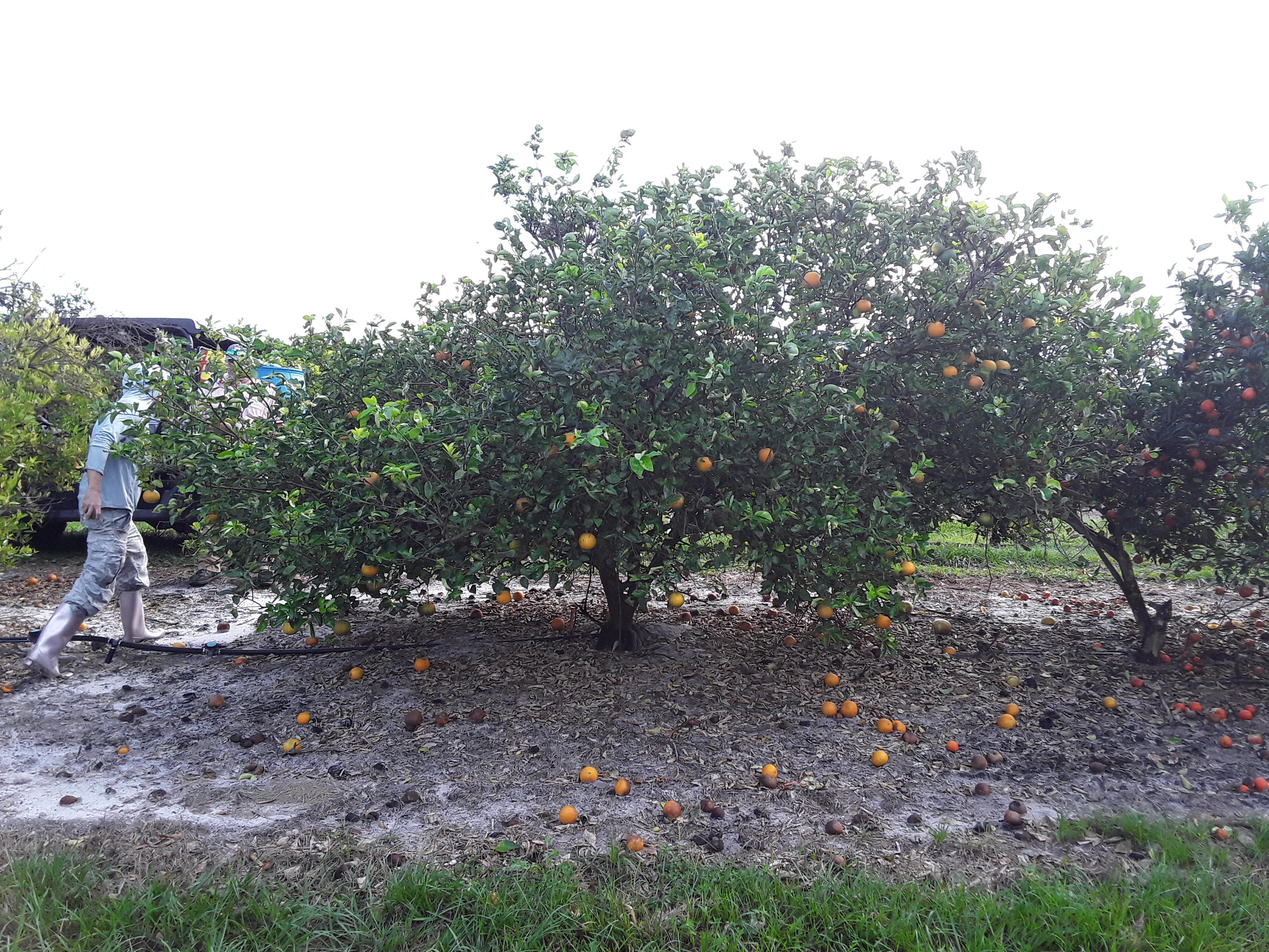fruit_on_ground: (576, 533, 600, 551), (924, 320, 946, 339), (801, 272, 824, 290), (361, 471, 385, 488), (977, 508, 995, 530), (140, 487, 163, 504), (694, 455, 714, 474), (625, 360, 646, 378), (562, 429, 581, 448), (757, 446, 776, 465), (909, 468, 929, 486), (665, 495, 689, 510), (939, 248, 959, 266), (970, 296, 988, 315), (512, 497, 534, 512), (203, 509, 225, 524), (718, 322, 736, 340), (281, 620, 300, 637), (333, 429, 354, 444), (476, 346, 498, 360), (896, 598, 913, 616), (725, 257, 743, 274), (1198, 399, 1218, 414), (332, 620, 352, 635), (956, 351, 976, 366), (898, 562, 919, 576), (816, 605, 837, 619), (542, 444, 559, 461), (1182, 339, 1200, 355), (882, 417, 901, 432), (874, 615, 893, 630), (1254, 285, 1269, 304), (1239, 335, 1258, 350), (1243, 361, 1262, 376), (581, 457, 601, 471), (1241, 387, 1260, 401), (362, 563, 381, 577), (940, 365, 960, 378), (856, 299, 873, 314), (878, 548, 896, 562), (494, 591, 513, 604), (979, 359, 998, 372), (435, 348, 452, 362), (1209, 424, 1225, 438), (1103, 509, 1120, 522), (995, 359, 1012, 372), (1254, 466, 1269, 480), (1192, 459, 1208, 472), (1201, 309, 1217, 322), (1134, 465, 1151, 477), (930, 242, 947, 254), (1020, 318, 1037, 330), (1164, 513, 1178, 527), (1185, 360, 1200, 373), (968, 375, 983, 388), (1238, 586, 1257, 596), (851, 405, 868, 416), (420, 603, 437, 614), (1140, 447, 1154, 460), (1218, 327, 1232, 340), (683, 308, 698, 320), (1156, 452, 1173, 462), (1117, 443, 1130, 456), (1188, 446, 1201, 458), (460, 360, 474, 371), (1090, 390, 1107, 399), (1222, 473, 1237, 483), (1222, 347, 1237, 357), (346, 410, 362, 419), (1145, 347, 1157, 358), (1213, 445, 1226, 454), (1132, 555, 1145, 564), (1215, 588, 1228, 597), (1059, 480, 1071, 489), (1146, 497, 1159, 503), (1182, 550, 1191, 558), (1193, 565, 1203, 572), (1176, 569, 1182, 576)
fruit_on_tree: (402, 709, 426, 731), (557, 805, 580, 826), (662, 800, 685, 820), (575, 766, 600, 784), (841, 700, 861, 721), (69, 619, 93, 636), (1002, 812, 1027, 828), (996, 713, 1017, 732), (282, 738, 304, 756), (1007, 798, 1031, 814), (875, 716, 895, 735), (628, 833, 646, 854), (610, 779, 633, 795), (985, 750, 1007, 766), (970, 754, 989, 772), (870, 750, 890, 767), (825, 818, 845, 835), (390, 851, 406, 871), (822, 673, 843, 688), (904, 812, 926, 826), (890, 719, 909, 735), (402, 790, 421, 806), (346, 666, 366, 681), (760, 764, 780, 779), (930, 620, 951, 634), (831, 854, 848, 871), (975, 782, 993, 798), (699, 798, 717, 814), (335, 861, 353, 877), (413, 658, 432, 673), (470, 708, 489, 723), (206, 693, 226, 707), (1211, 827, 1231, 841), (295, 710, 312, 726), (820, 702, 838, 717), (902, 734, 924, 746), (1037, 715, 1055, 729), (551, 618, 570, 631), (1006, 674, 1021, 690), (1089, 761, 1109, 773), (1189, 699, 1204, 714), (1023, 677, 1039, 691), (1103, 696, 1119, 710), (435, 711, 451, 725), (667, 593, 684, 606), (1252, 778, 1269, 791), (759, 777, 779, 788), (1238, 709, 1255, 721), (945, 740, 962, 752), (709, 840, 726, 852), (1040, 614, 1058, 625), (868, 646, 883, 659), (1209, 712, 1225, 724), (115, 744, 131, 756), (738, 619, 752, 632), (1245, 704, 1260, 716), (59, 793, 75, 804), (64, 794, 80, 805), (696, 831, 707, 847), (470, 608, 483, 621), (1130, 676, 1144, 688), (1174, 702, 1188, 714), (713, 807, 725, 821), (766, 607, 780, 619), (1049, 597, 1064, 608), (1218, 736, 1233, 747), (525, 745, 540, 756), (1186, 632, 1202, 642), (304, 636, 320, 646), (172, 640, 188, 650), (233, 655, 249, 665), (1248, 734, 1264, 744), (760, 590, 773, 602), (1180, 663, 1194, 674), (1253, 663, 1264, 677), (1146, 470, 1161, 480), (781, 637, 796, 647), (942, 644, 957, 654), (428, 697, 446, 705), (339, 716, 351, 728), (1236, 783, 1252, 792), (679, 612, 692, 623), (1248, 609, 1262, 619), (216, 621, 230, 631), (1255, 630, 1269, 640), (1159, 653, 1173, 663), (1215, 709, 1229, 719), (726, 606, 741, 615), (513, 590, 525, 601), (706, 592, 717, 604), (772, 595, 783, 607), (603, 608, 613, 621), (716, 607, 727, 618), (1253, 618, 1265, 628), (46, 572, 58, 582), (999, 688, 1012, 697), (692, 592, 701, 604), (25, 578, 38, 586), (993, 641, 1006, 649), (977, 629, 988, 638), (1246, 639, 1257, 647), (1192, 657, 1204, 664), (1062, 604, 1071, 613), (690, 608, 699, 617), (1073, 600, 1084, 607), (380, 681, 391, 688), (1042, 589, 1051, 597), (1106, 610, 1114, 619), (711, 714, 719, 723), (1094, 641, 1104, 648), (1015, 591, 1026, 597), (1087, 598, 1096, 605), (1256, 628, 1266, 634), (1021, 593, 1030, 599), (1099, 601, 1106, 608), (1093, 610, 1101, 616)
